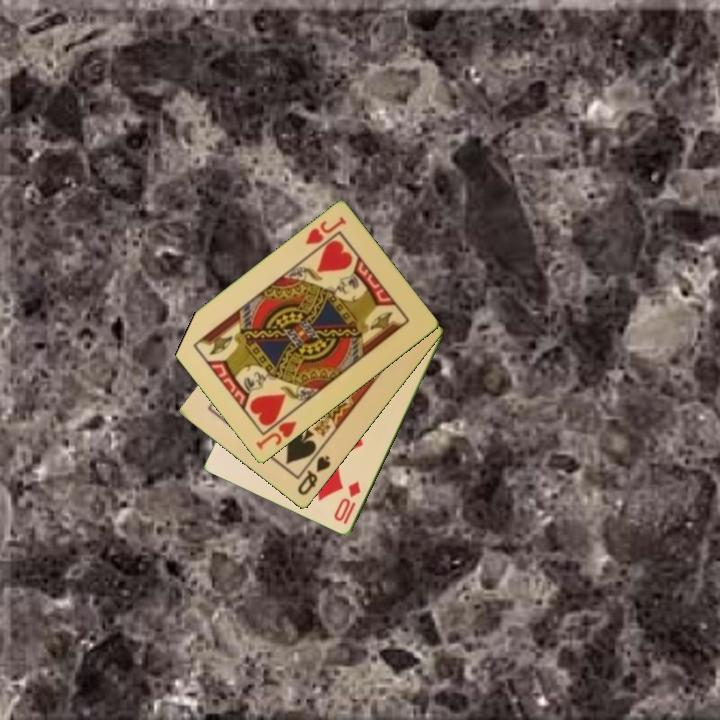10d: (330, 478, 364, 528)
Jh: (252, 417, 300, 453), (302, 213, 350, 248)
Qs: (294, 452, 334, 499)
